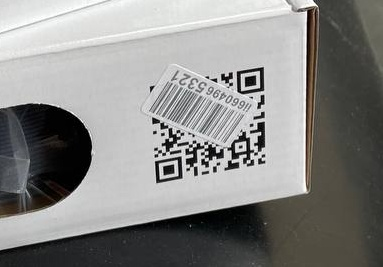2d: (148, 66, 266, 184)
